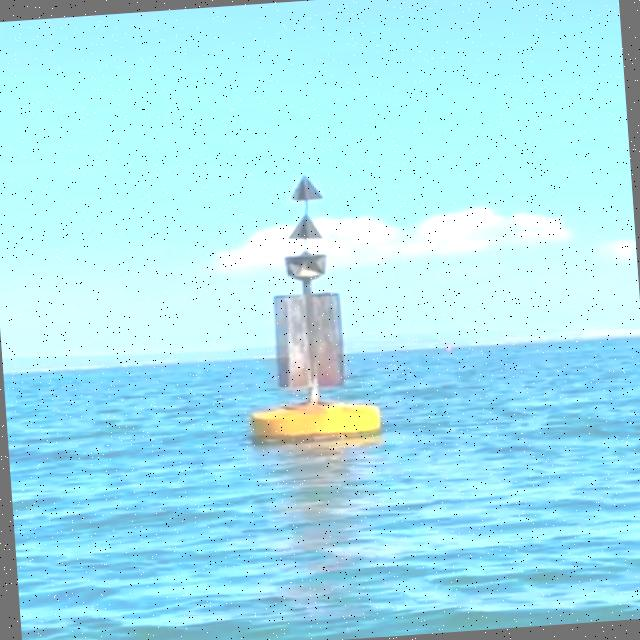marque: (232, 173, 375, 447)
